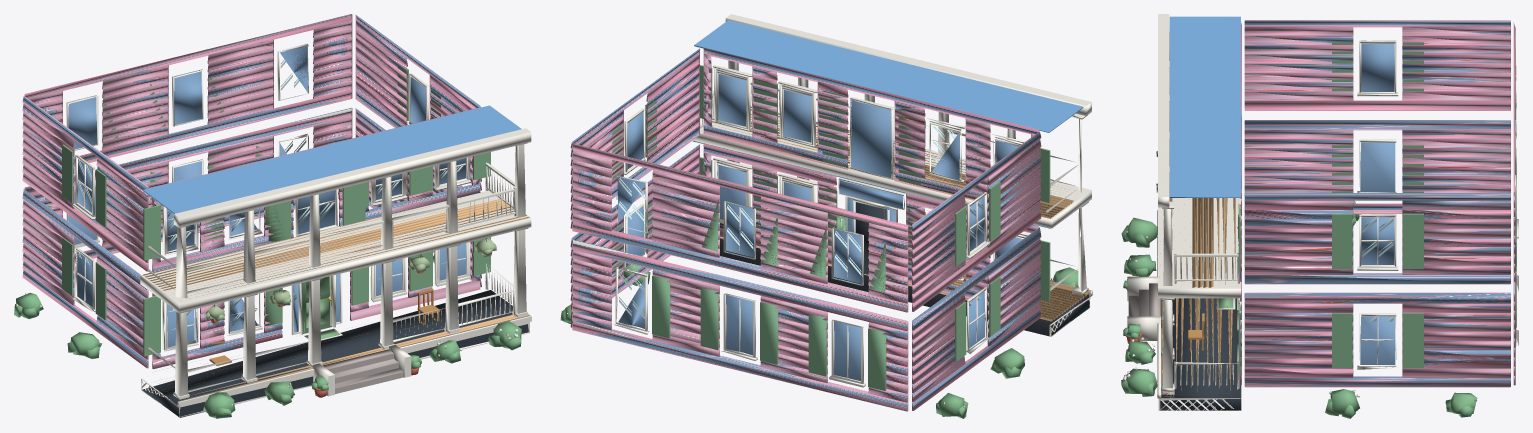
The model's file is colonial-house.glb.
The picture shows the model from 3 angles, left to right: view 1: azimuth 30°, elevation 25°; view 2: azimuth 150°, elevation 25°; view 3: azimuth 270°, elevation 25°; orthographic projection. The views are drawn at different scales.
Parts seen in each view (by area): view 1: colonial-house_details, colonial-house_body; view 2: colonial-house_body, colonial-house_details; view 3: colonial-house_body, colonial-house_details.
Part boxes in pixels (x1,y1,x2,y2): colonial-house_details: (14,43,531,418); colonial-house_body: (22,14,481,369); colonial-house_body: (570,48,1041,411); colonial-house_details: (560,14,1092,418); colonial-house_body: (1240,20,1515,387); colonial-house_details: (1121,14,1518,418).
Size of the model in its own units: 14.23 by 6.92 by 11.65.
Materials: 2 (2 with a texture image).
